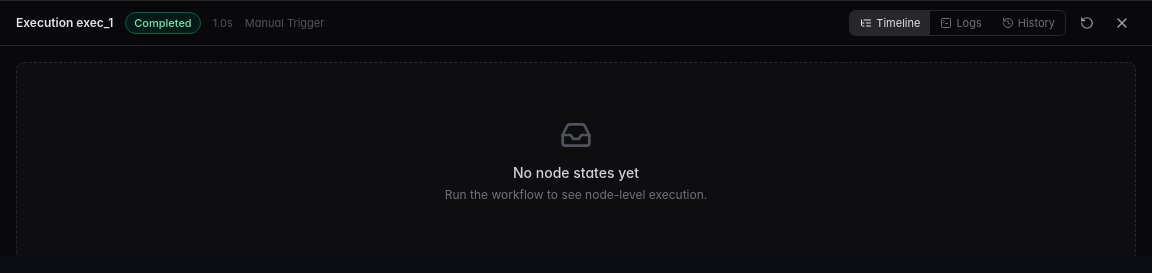
Test: ExecutionPanel › shows an empty state when there are no logs
The width and height of the screenshot is (1152, 273).
Click the button "Logs" at (961,23), box [930, 11, 992, 35]
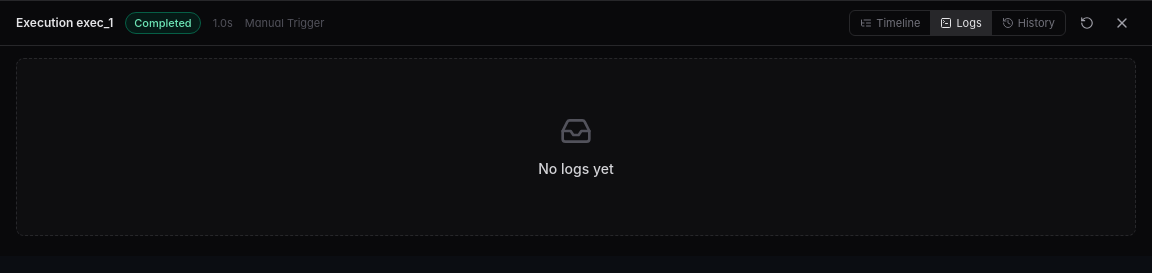
Expected: the heading "No logs yet" is shown, [538, 159, 614, 179]
